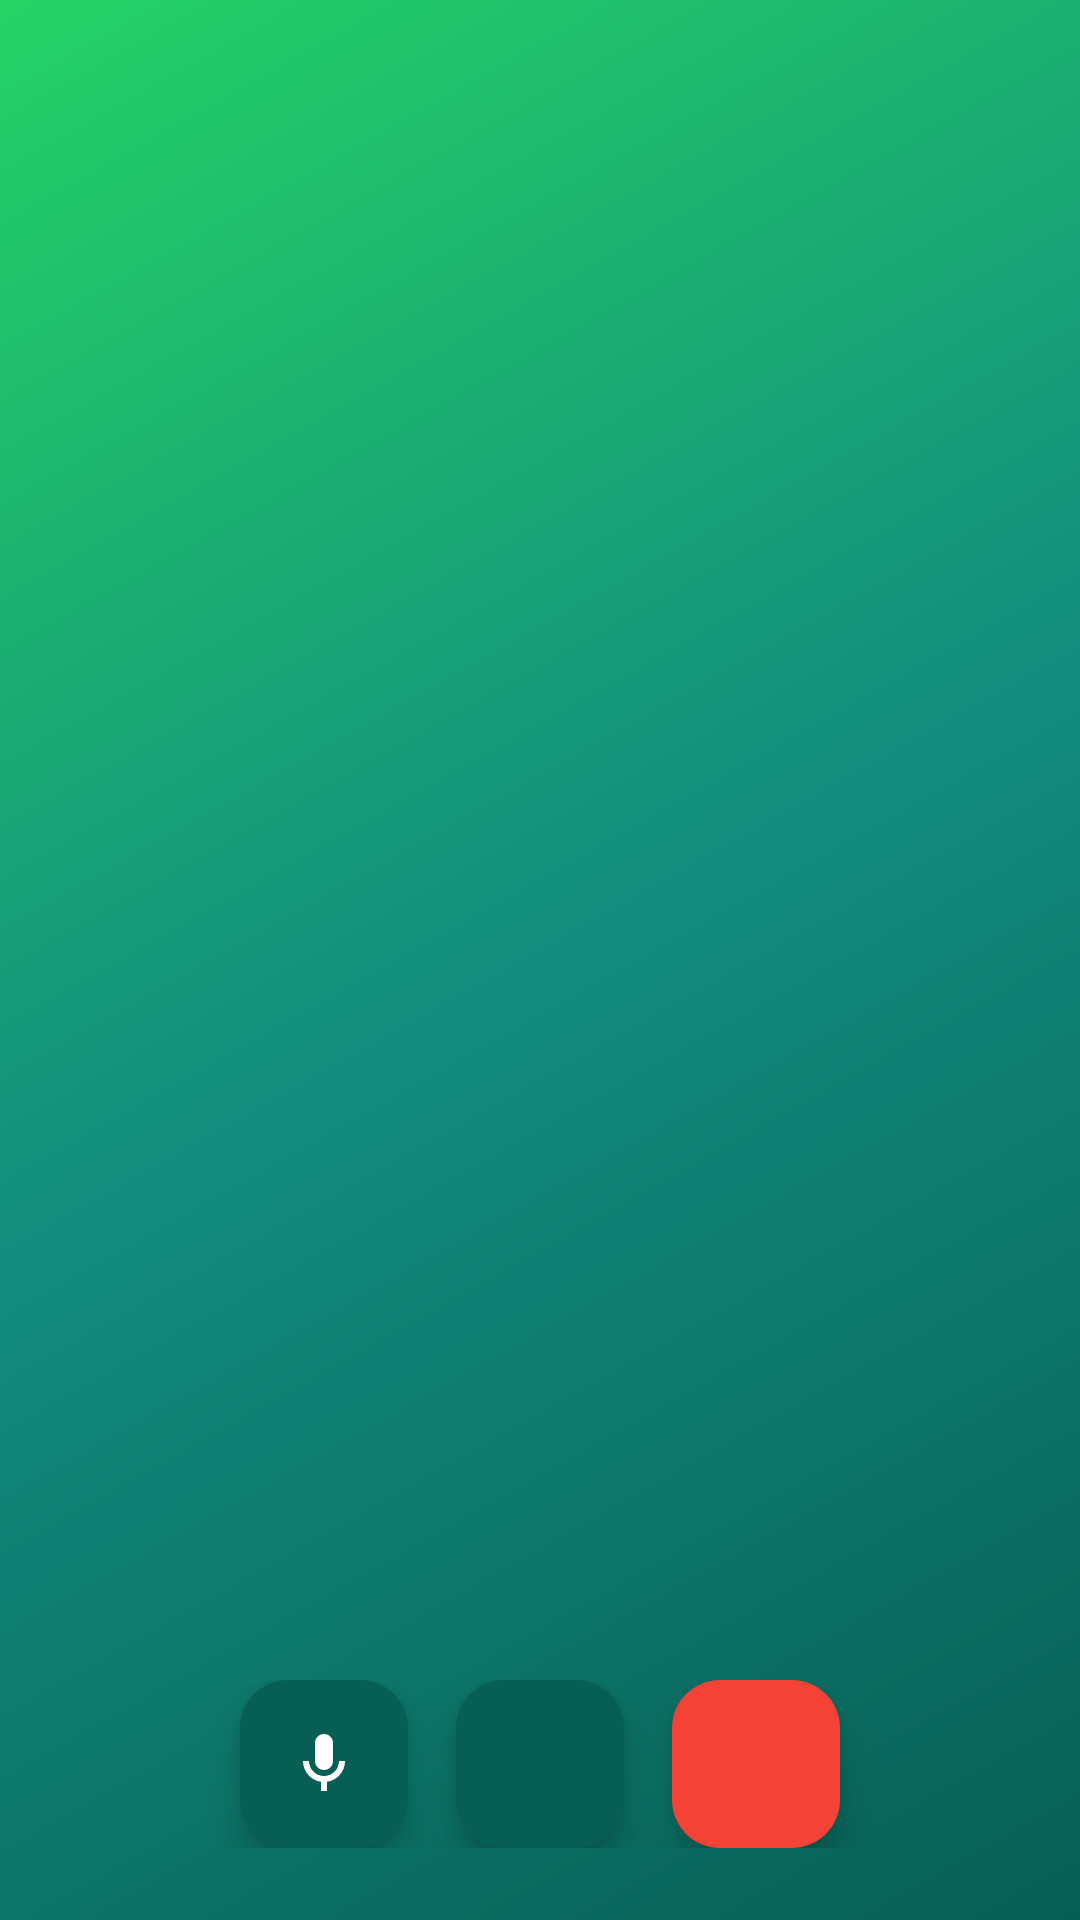

Named icons in this screenshot (1080 × 1920) and their centers, point (x, y):
Muet: point (324, 1764)
